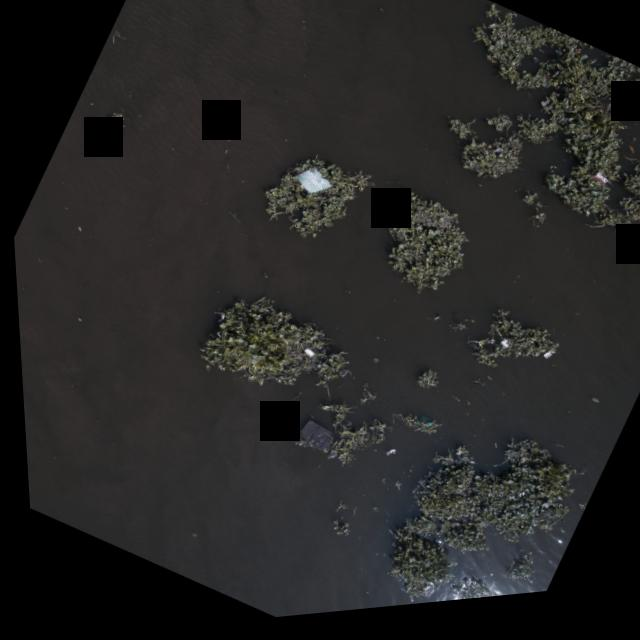plastic: (283, 418, 343, 472), (282, 160, 336, 210), (405, 416, 433, 442), (585, 175, 611, 201), (372, 447, 395, 469), (492, 343, 509, 360), (526, 62, 543, 78), (534, 356, 550, 372), (296, 351, 313, 365), (550, 56, 565, 69), (71, 221, 84, 236)
